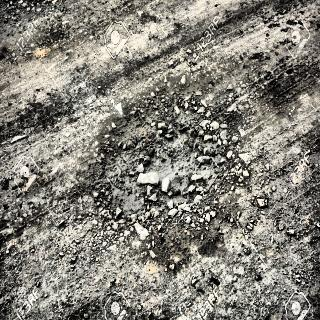pothole: (84, 72, 240, 248)
